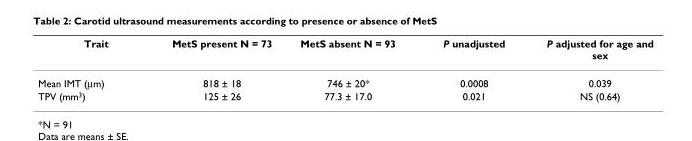table: (37, 36, 652, 101)
table column: (139, 36, 285, 101), (285, 36, 418, 101), (525, 36, 652, 101), (418, 36, 525, 101), (37, 36, 139, 101)
table column header: (37, 36, 652, 68)
table row: (37, 36, 652, 68), (37, 68, 652, 89), (37, 89, 652, 101)
